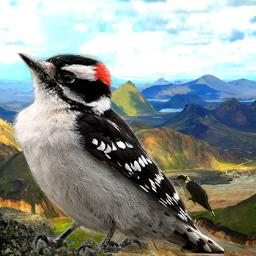Cuckoo: (170, 175, 215, 220)
Woodpecker: (11, 53, 224, 256)
